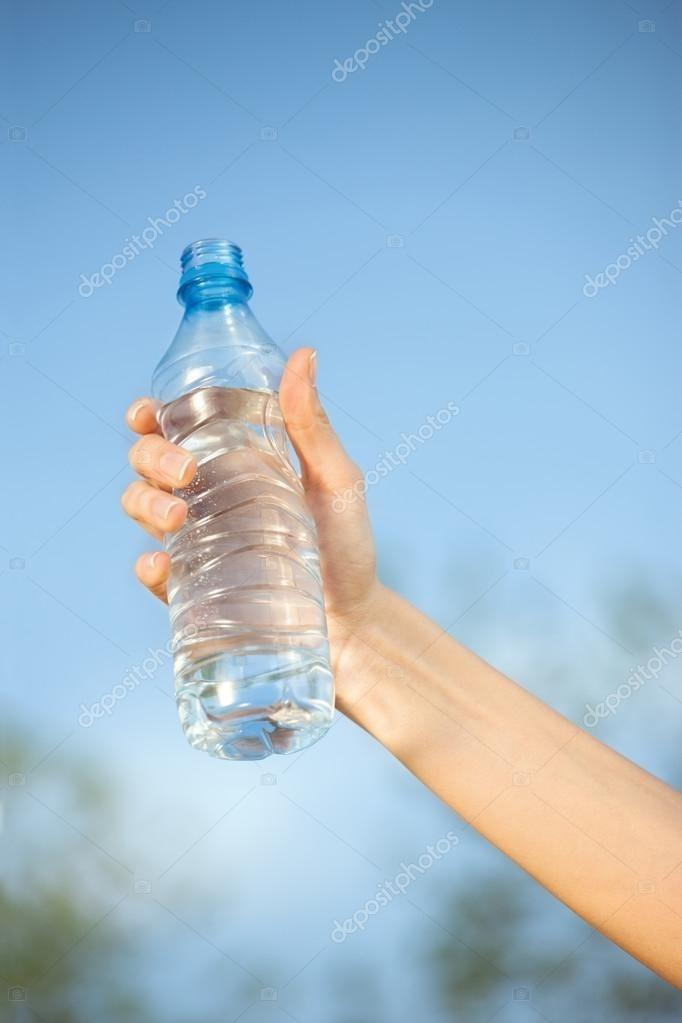bottle-plastic: (146, 231, 342, 771)
